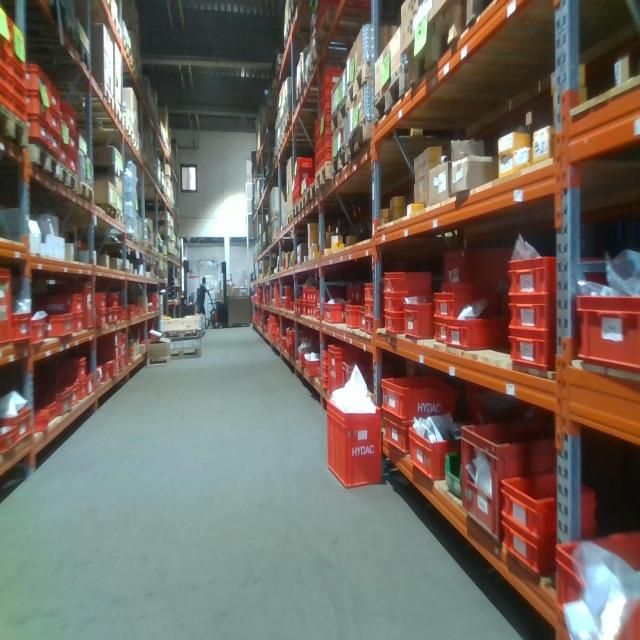pallet: (403, 0, 463, 96), (2, 2, 76, 46), (18, 37, 92, 78), (373, 58, 412, 124), (40, 85, 115, 115), (344, 59, 375, 116), (0, 102, 32, 151), (67, 109, 127, 135), (25, 143, 61, 185), (348, 114, 376, 165), (464, 2, 500, 32), (328, 93, 346, 137), (89, 161, 125, 182), (74, 205, 115, 223), (331, 142, 347, 186), (315, 154, 332, 195), (291, 75, 314, 105), (53, 174, 81, 198), (107, 126, 137, 145), (167, 345, 202, 361), (304, 177, 316, 211), (286, 5, 304, 26), (162, 329, 203, 338), (81, 185, 96, 206), (111, 15, 122, 37), (291, 201, 299, 229), (107, 214, 124, 227), (298, 193, 306, 218), (285, 212, 293, 234), (135, 143, 141, 156)
pallet_truck: (206, 256, 230, 333), (179, 259, 198, 316)
small_load_carrier: (457, 412, 579, 549), (551, 520, 639, 638), (497, 470, 605, 537), (496, 517, 597, 577), (570, 290, 638, 379), (323, 398, 385, 491), (442, 245, 513, 319), (376, 371, 455, 422), (402, 417, 457, 481), (447, 313, 513, 360), (507, 252, 562, 296), (47, 281, 93, 333), (326, 342, 360, 402), (507, 331, 554, 372), (342, 357, 382, 402), (382, 414, 421, 459), (506, 295, 556, 330), (403, 270, 429, 332), (1, 406, 33, 447), (426, 284, 461, 319), (403, 300, 428, 347), (1, 267, 15, 350), (45, 388, 72, 425), (43, 291, 84, 313), (21, 69, 49, 99), (36, 398, 58, 434), (48, 310, 75, 339), (24, 96, 50, 126), (57, 353, 87, 377), (382, 270, 409, 296), (24, 119, 48, 148), (13, 312, 32, 345), (32, 308, 51, 340), (46, 78, 63, 112), (319, 300, 343, 324), (382, 313, 408, 335), (41, 132, 62, 159), (1, 423, 19, 454), (343, 303, 361, 333), (7, 76, 26, 103), (320, 67, 344, 88), (61, 105, 77, 136), (42, 110, 61, 136), (302, 351, 319, 380), (10, 20, 25, 52), (381, 296, 409, 313), (9, 55, 24, 85), (10, 42, 25, 71), (63, 130, 79, 156), (431, 315, 448, 339), (65, 378, 81, 403), (316, 289, 341, 305), (12, 96, 25, 126), (363, 280, 381, 301), (34, 410, 49, 435), (120, 301, 136, 324), (320, 85, 339, 104), (120, 332, 129, 370), (356, 305, 368, 333), (0, 13, 8, 52), (300, 175, 315, 194), (98, 362, 117, 377), (284, 285, 296, 308), (320, 112, 333, 133), (71, 313, 84, 334), (107, 330, 122, 347), (320, 149, 334, 167), (363, 320, 379, 335), (68, 151, 80, 171), (321, 137, 335, 153), (107, 347, 123, 361), (363, 303, 376, 320), (322, 122, 335, 139), (110, 308, 121, 328), (2, 85, 12, 106), (285, 330, 300, 344), (107, 293, 121, 308), (96, 291, 107, 310), (1, 66, 10, 89), (76, 377, 88, 394), (88, 373, 96, 398), (59, 140, 67, 164), (294, 157, 310, 169), (353, 284, 362, 305), (321, 98, 333, 113), (98, 310, 107, 330), (100, 366, 110, 384), (286, 341, 296, 358), (2, 49, 9, 71), (94, 369, 102, 387), (143, 293, 158, 302), (313, 130, 322, 144), (314, 151, 322, 166), (323, 352, 330, 368), (321, 378, 330, 390), (107, 308, 113, 324), (314, 166, 324, 175), (316, 310, 325, 320), (314, 121, 322, 132), (116, 360, 122, 374), (313, 144, 321, 154), (303, 284, 308, 300), (309, 283, 313, 302), (313, 286, 318, 301), (299, 352, 304, 367), (321, 368, 330, 376), (312, 304, 317, 318), (307, 285, 311, 301), (298, 300, 302, 314), (293, 301, 298, 311), (308, 303, 311, 318), (154, 302, 158, 313), (310, 303, 313, 315), (303, 303, 306, 314)
